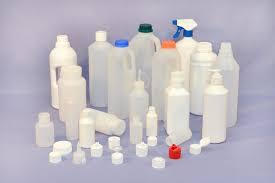Container for household chemicals: (108, 13, 250, 117), (200, 70, 226, 148), (51, 32, 77, 107), (85, 30, 107, 108), (165, 72, 189, 138), (128, 78, 151, 121), (34, 112, 54, 146), (78, 111, 95, 149)
